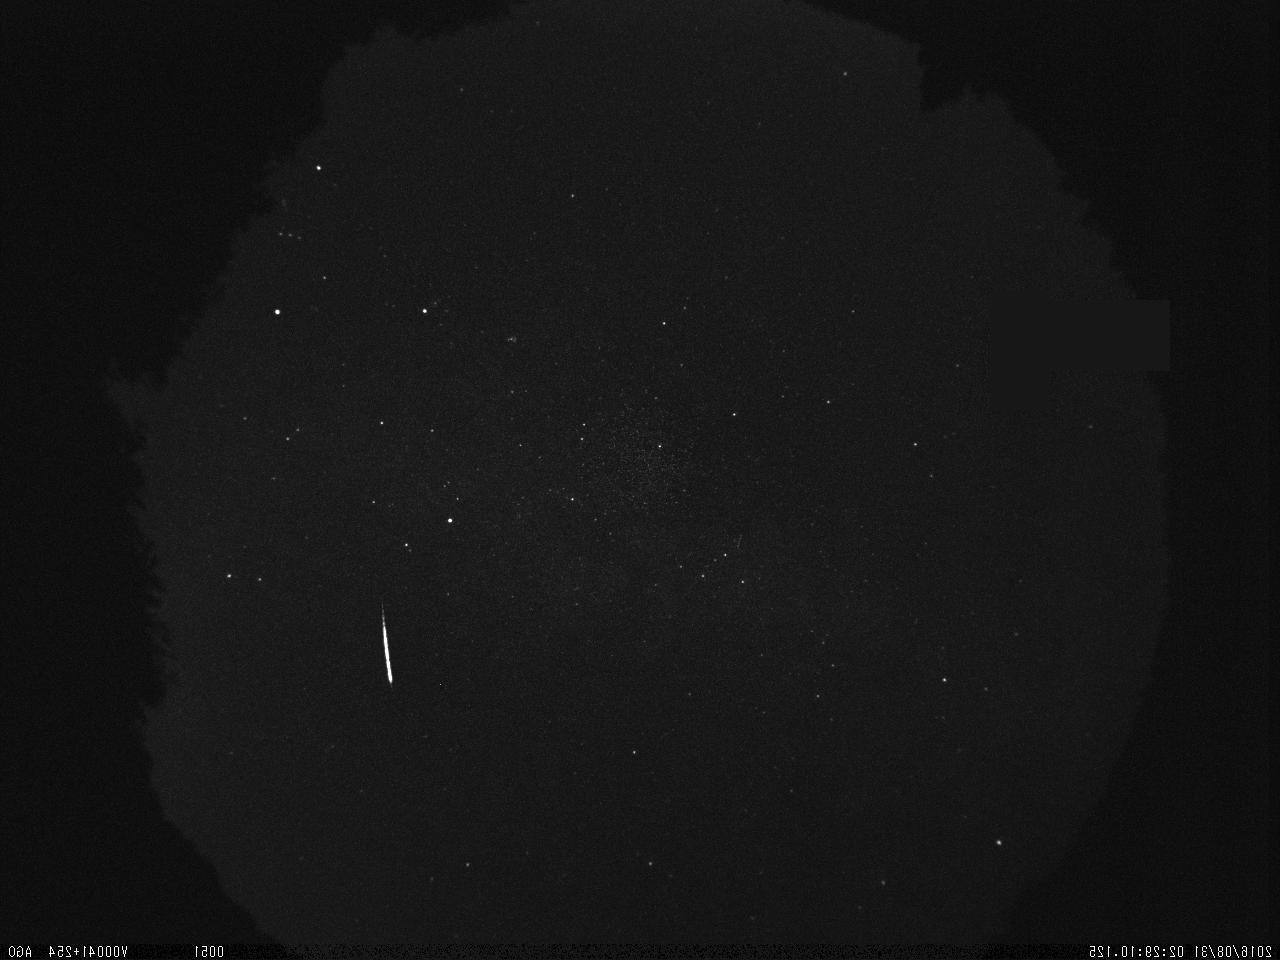meteor: (333, 588, 424, 717)
